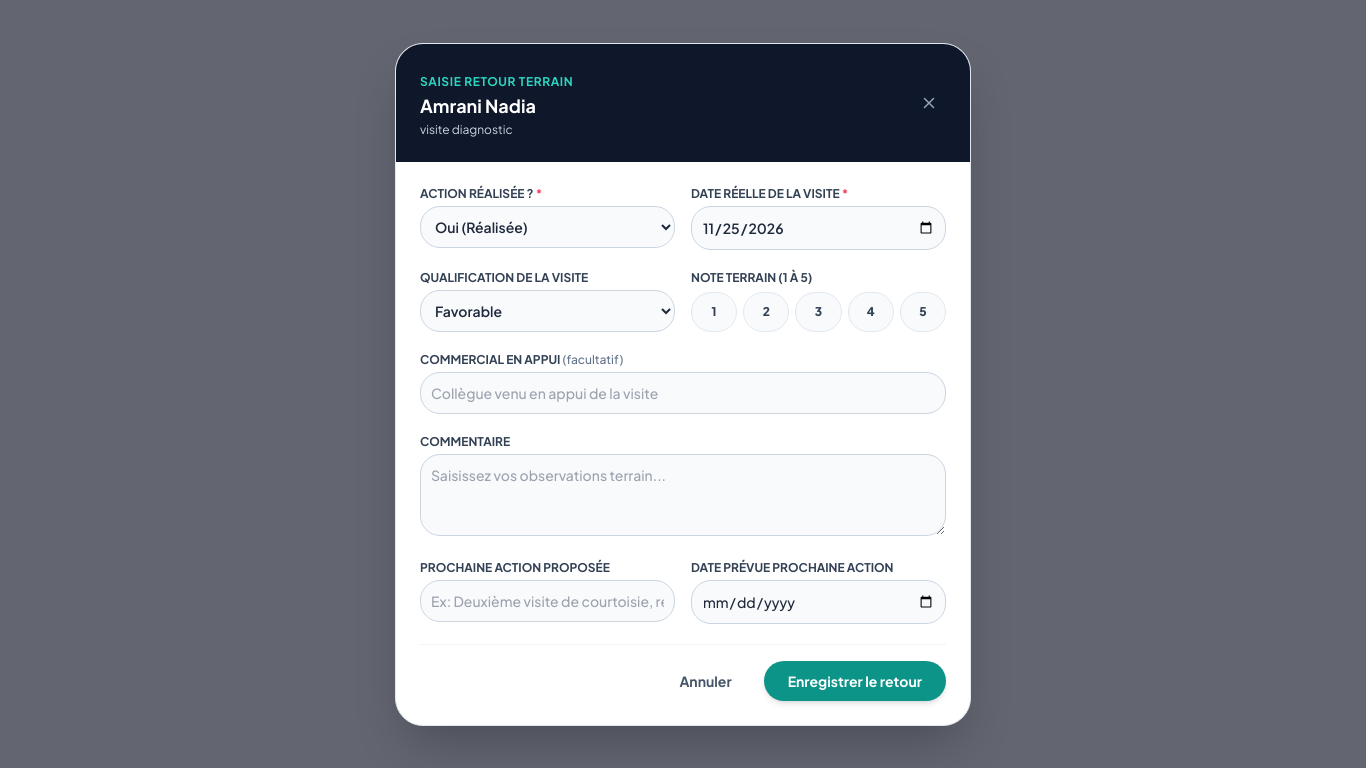
Test: ModalSaisieRetour conditional requirements › requires a documented non-realization reason
Later steps or results of the test are not shown.
Select "Non (Non réalisée)" in the dropdown below "Action réalisée ?" at (548, 226), box [420, 206, 675, 248]
(page scrolled)
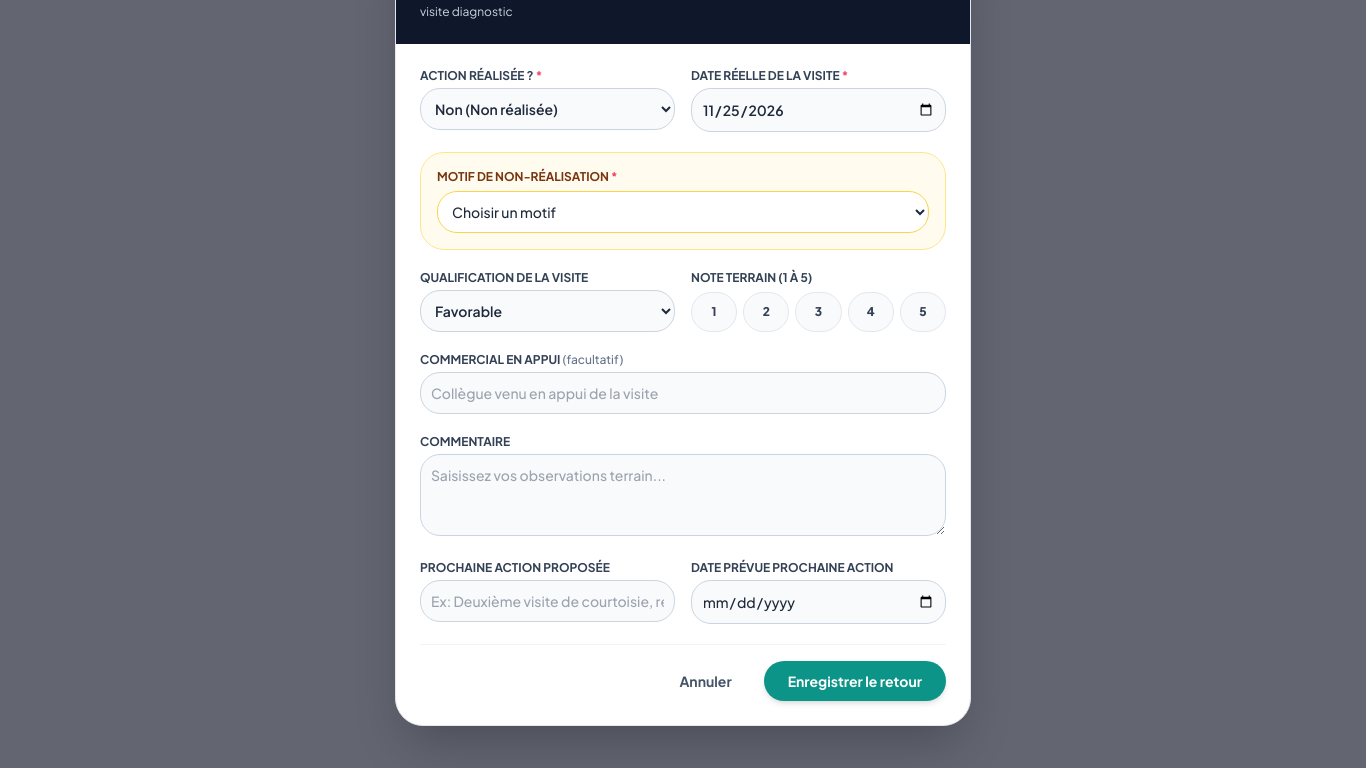
Submit the form, box [396, 44, 970, 724]
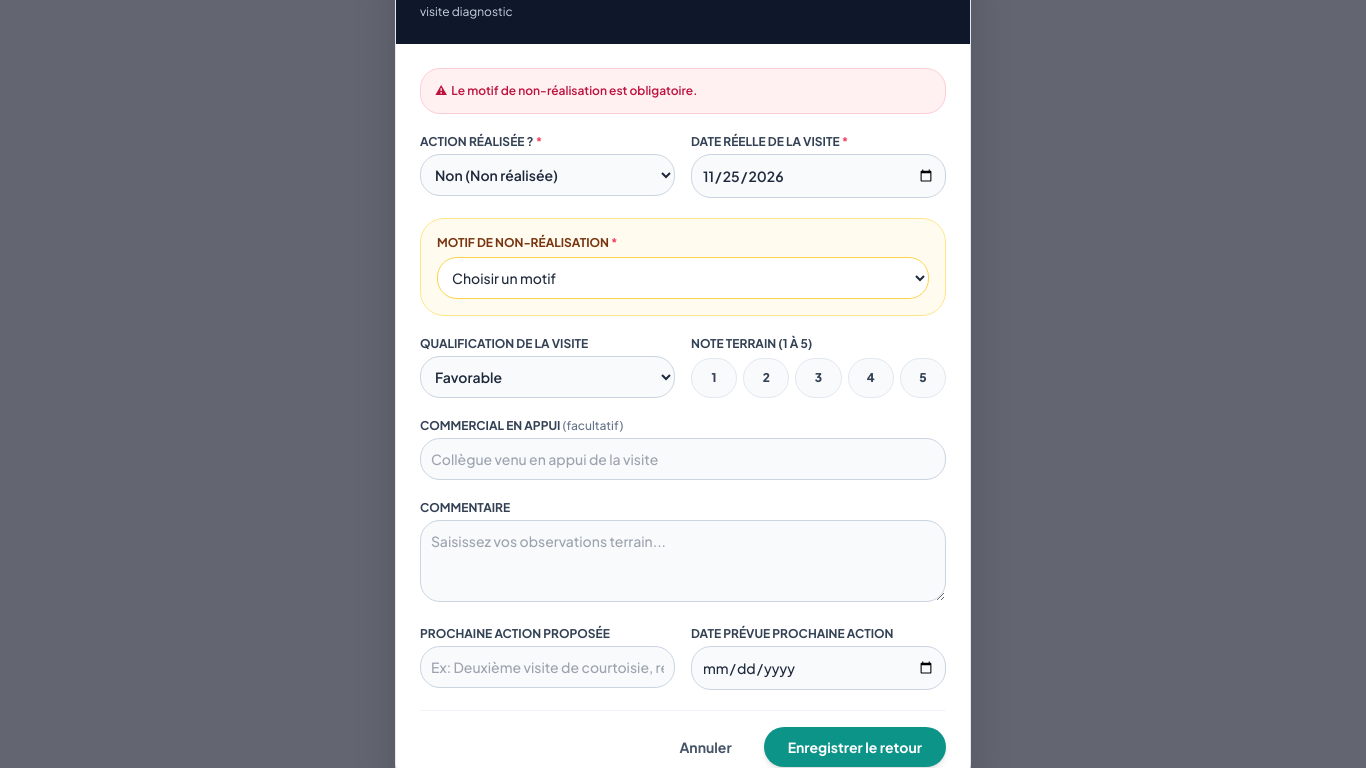
Expected: the text "Le motif de non-réalisation est obligatoire." is shown, [451, 82, 697, 98]
